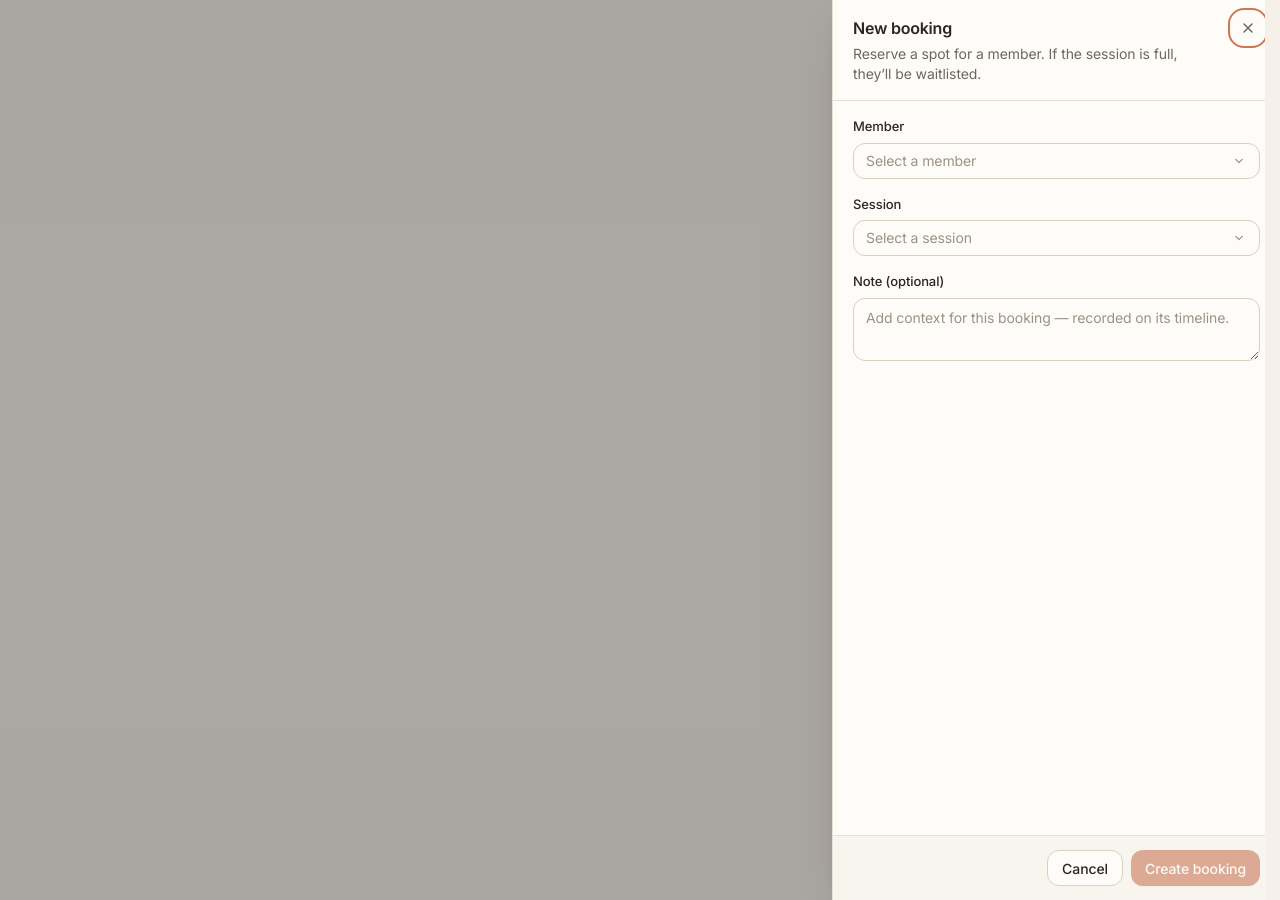
Test: BookingCreateDrawer › shows a confirmed-spot outcome when the server books directly
Click the dropdown labelled "member" at (921,160), box [853,142,1260,178]
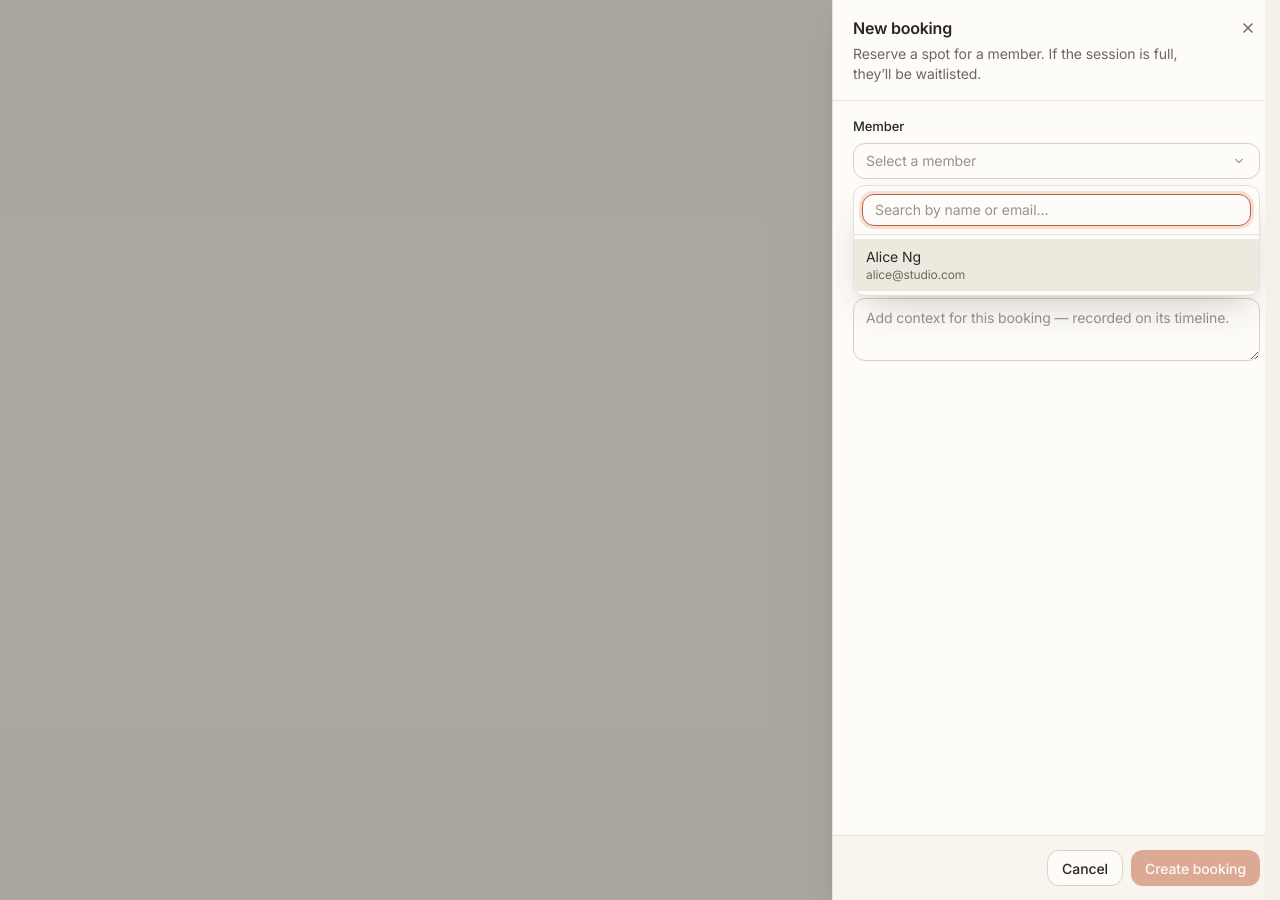
Click the button "Alice Ng alice@studio.com" at (893,256), box [854,238,1259,290]
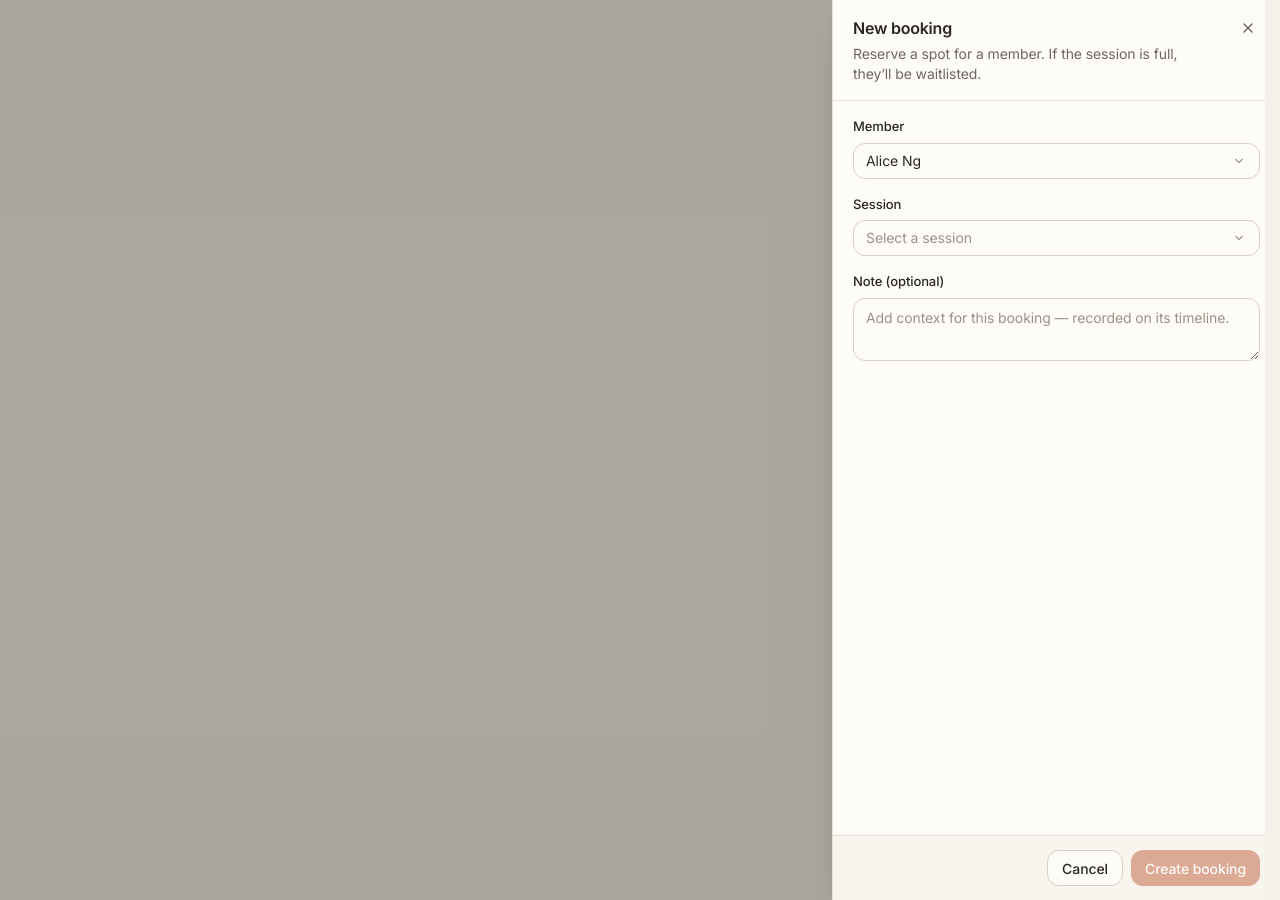
Click the dropdown labelled "session" at (919,238), box [853,220,1260,256]
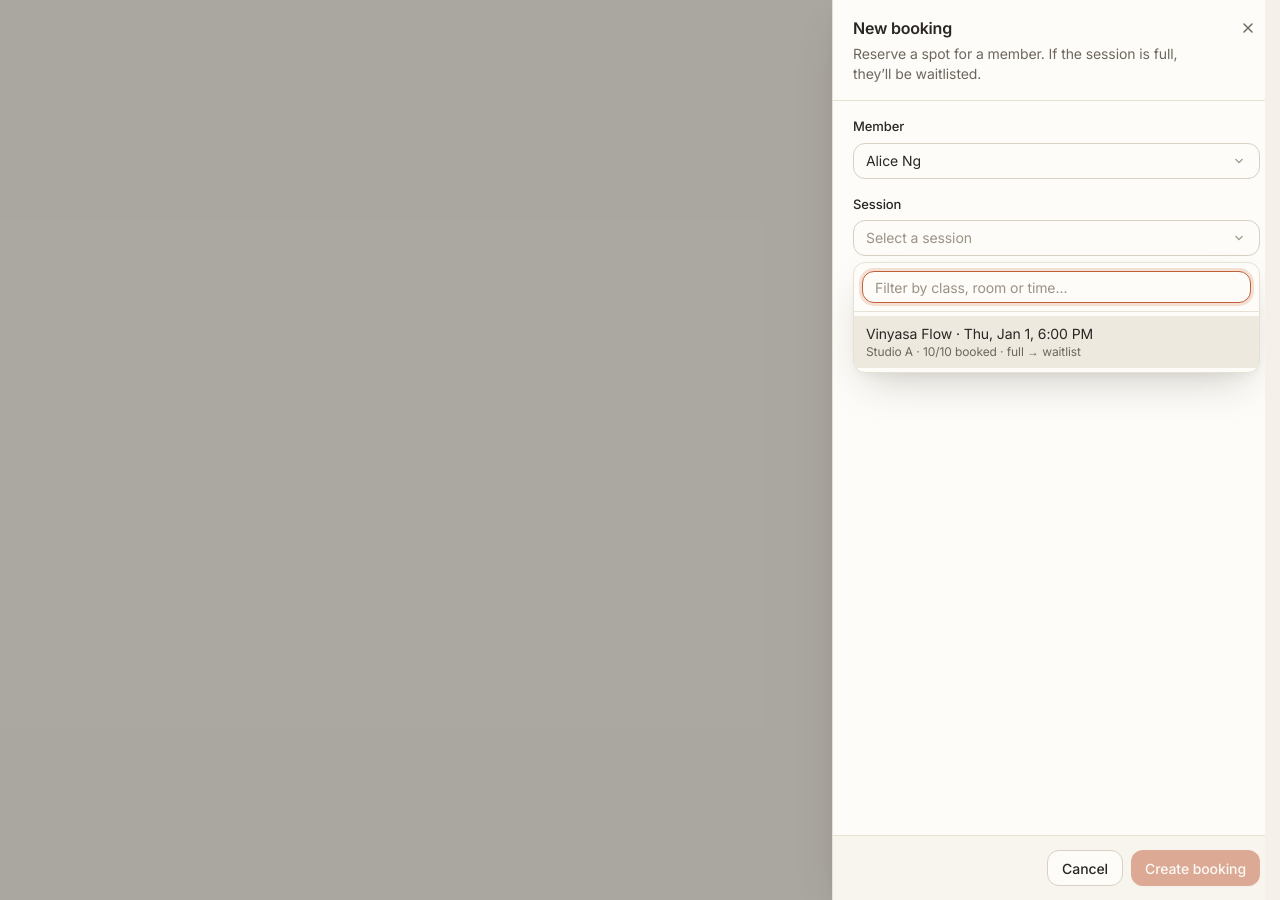
Click the button "Vinyasa Flow" at (1056,342), box [854,316,1259,368]
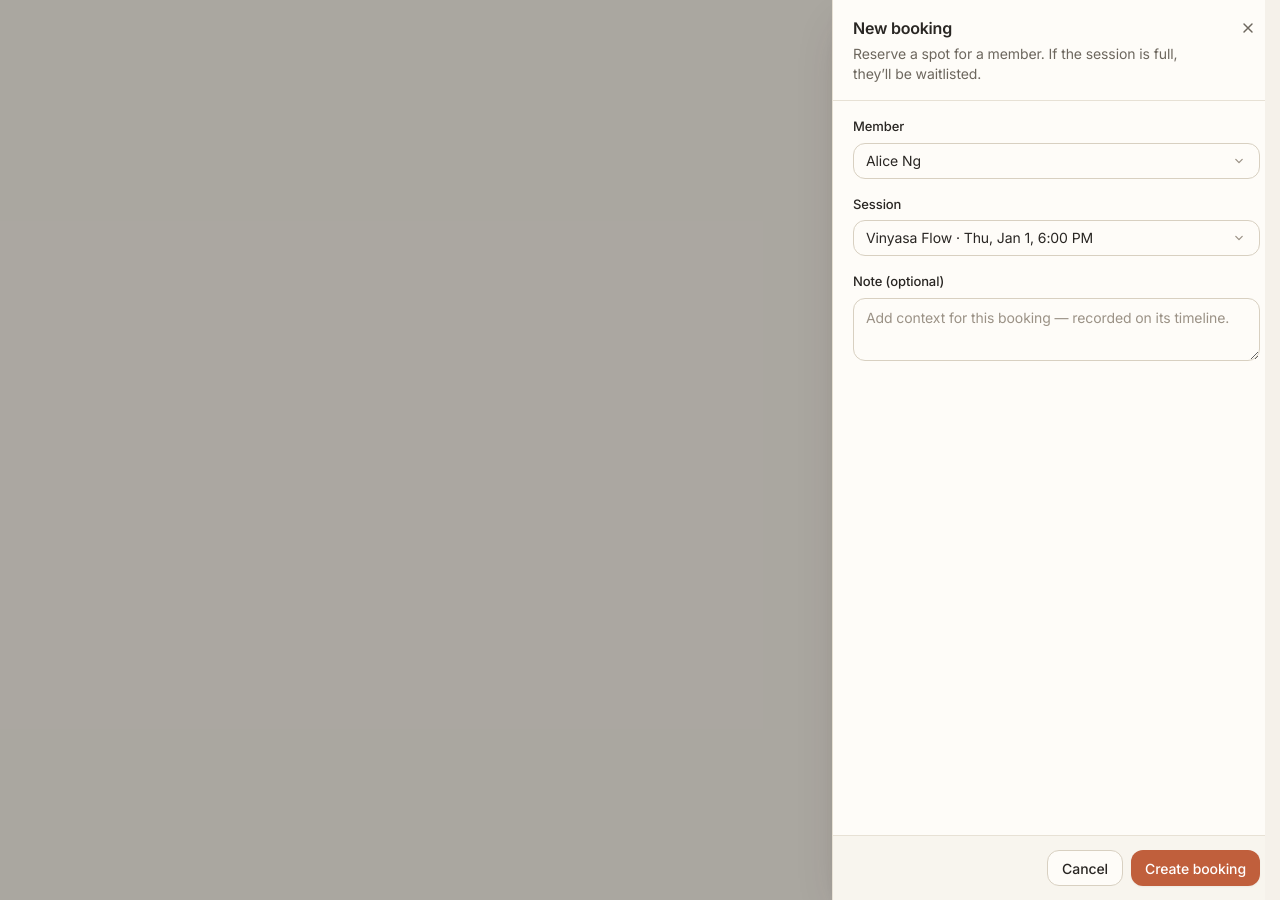
Click the button "Create booking" at (1196,868), box [1131,850,1260,886]
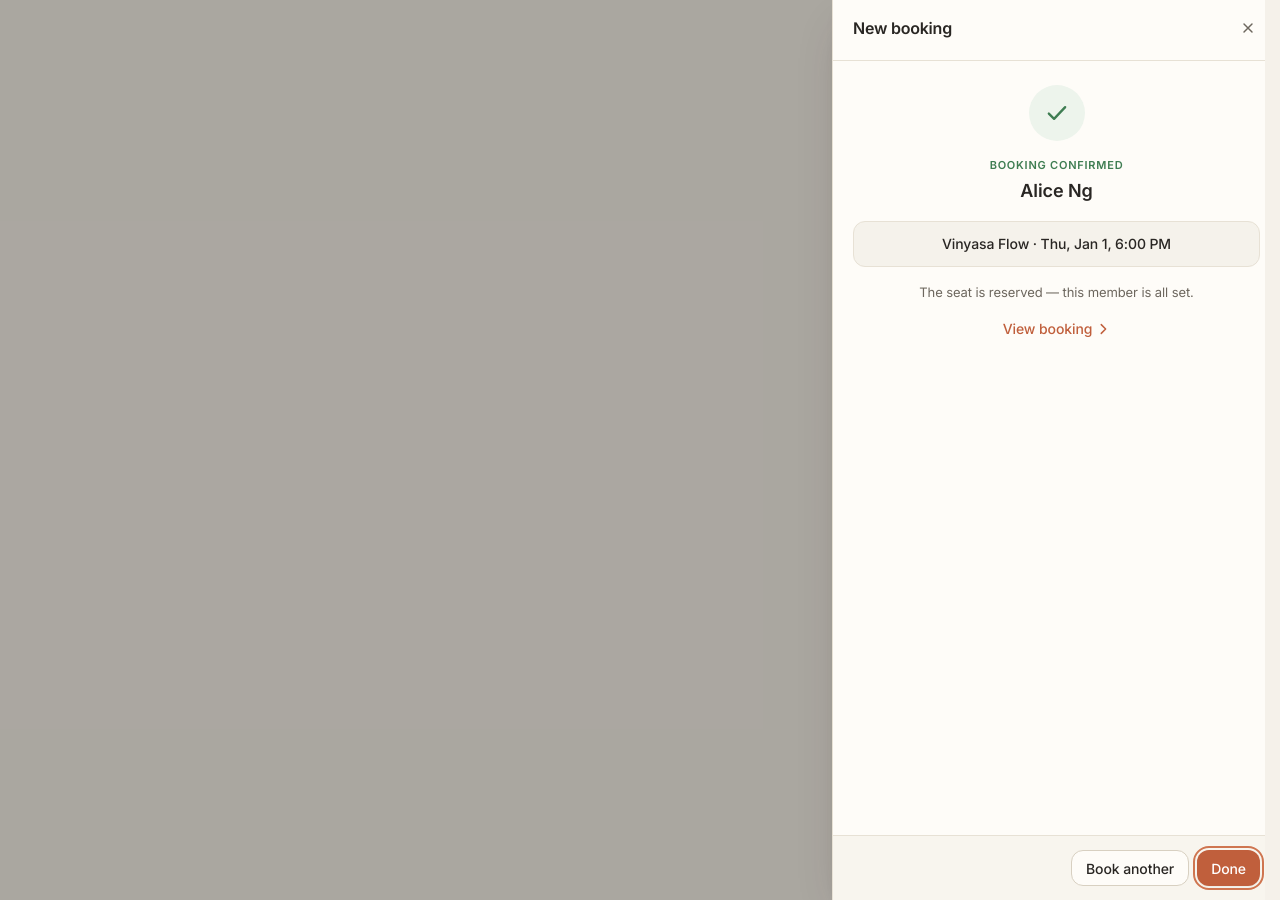
Expected: the text "Booking confirmed" is shown, [990,157,1123,173]
